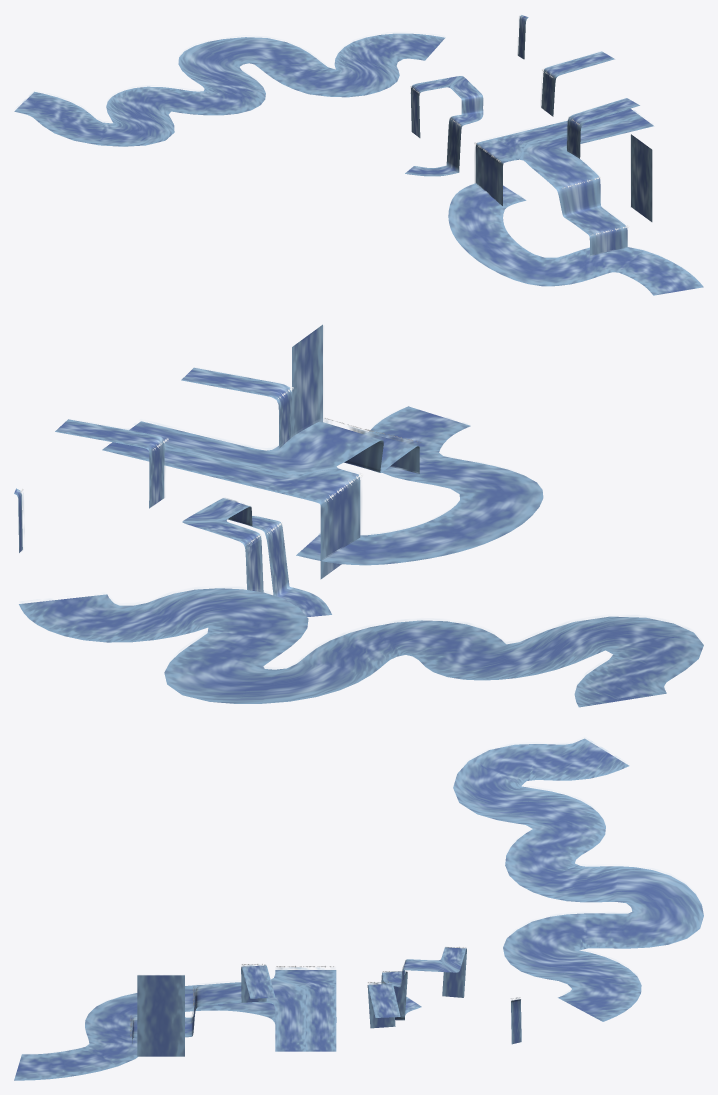
The model's file is level_2_water_next_it.gltf.
3 renders of one model, top to bottom at view 1: azimuth 30°, elevation 25°; view 2: azimuth 150°, elevation 25°; view 3: azimuth 270°, elevation 25°, orthographic. The views are drawn at different scales.
Parts seen in each view (by area): view 1: water_river_first, water_river_side, water_river_split, foam_river_first, foam_river_side, foam_river_split, water_river_2, water_waterfall_3, water_waterfall_1, water_waterfall_2, foam_river_2, foam_waterfall_3; view 2: water_river_first, water_river_split, water_river_side, foam_river_first, water_river_2, foam_river_side, foam_river_split, water_waterfall_3, water_waterfall_1, water_waterfall_2, foam_river_2, foam_waterfall_3 (+2 smaller); view 3: water_river_first, foam_river_first, water_river_split, water_river_side, water_waterfall_3, water_river_2, foam_river_split, foam_river_side, water_waterfall_1, water_waterfall_2.
Part boxes in pixels (<box>): water_river_first: <box>14,33,445,146</box>; water_river_side: <box>448,183,703,295</box>; water_river_split: <box>475,108,653,255</box>; foam_river_first: <box>16,32,444,143</box>; foam_river_side: <box>450,185,693,293</box>; foam_river_split: <box>474,110,648,253</box>; water_river_2: <box>405,76,483,176</box>; water_waterfall_3: <box>631,134,652,221</box>; water_waterfall_1: <box>541,51,614,116</box>; water_waterfall_2: <box>567,98,639,158</box>; foam_river_2: <box>406,76,482,175</box>; foam_waterfall_3: <box>630,135,650,216</box>; water_river_first: <box>19,588,703,707</box>; water_river_split: <box>102,421,419,579</box>; water_river_side: <box>296,406,543,565</box>; foam_river_first: <box>21,587,698,702</box>; water_river_2: <box>182,498,331,616</box>; foam_river_side: <box>309,412,540,563</box>; foam_river_split: <box>108,419,417,575</box>; water_waterfall_3: <box>292,324,322,436</box>; water_waterfall_1: <box>55,419,164,508</box>; water_waterfall_2: <box>181,367,292,448</box>; foam_river_2: <box>183,498,330,615</box>; foam_waterfall_3: <box>294,326,323,424</box>; water_river_first: <box>453,738,703,1021</box>; foam_river_first: <box>456,739,701,1018</box>; water_river_split: <box>132,970,336,1051</box>; water_river_side: <box>14,985,336,1080</box>; water_waterfall_3: <box>137,975,184,1056</box>; water_river_2: <box>381,947,466,1020</box>; foam_river_split: <box>131,967,335,1049</box>; foam_river_side: <box>19,994,274,1077</box>; water_waterfall_1: <box>367,984,400,1028</box>; water_waterfall_2: <box>241,965,275,1002</box>.
Bounding box in the file's own units: 268 × 48.61 × 283.
Materials: 3 (3 with a texture image).
